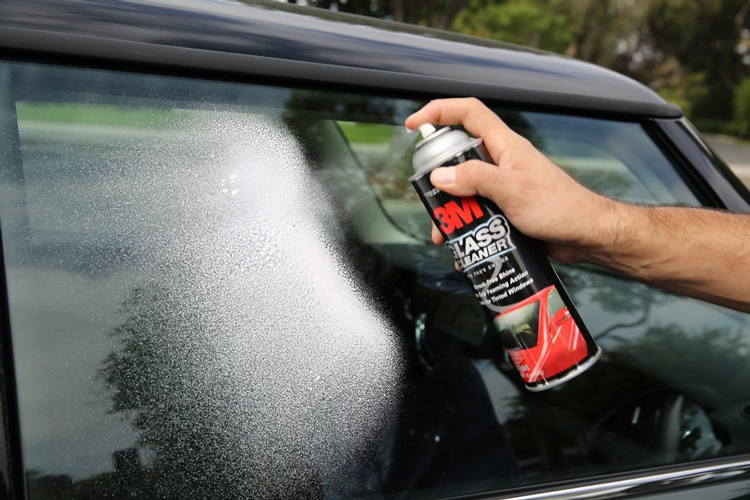3M: (428, 186, 490, 238)
